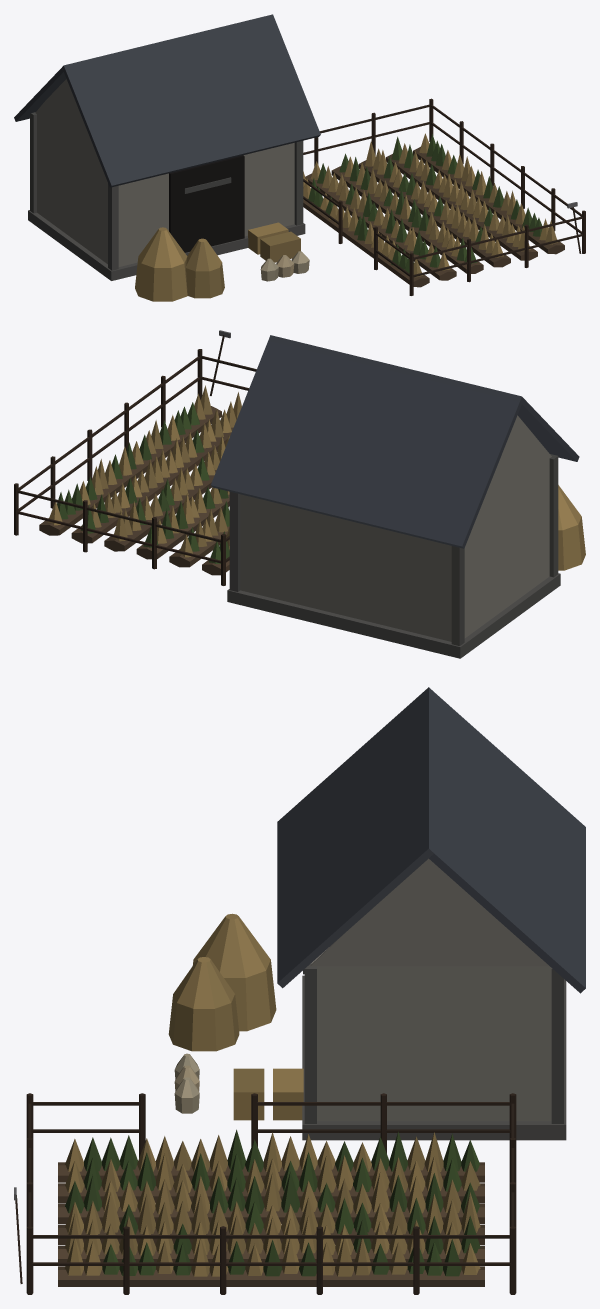
Rendered from walk_freehold_farm.glb.
3 renders of one model, top to bottom at view 1: azimuth 30°, elevation 25°; view 2: azimuth 150°, elevation 25°; view 3: azimuth 270°, elevation 25°, orthographic. The views are drawn at different scales.
Visible parts, largest first — view 1: walk_freehold_farm, walk_freehold_farm_roof; view 2: walk_freehold_farm, walk_freehold_farm_roof; view 3: walk_freehold_farm, walk_freehold_farm_roof.
Part boxes in pixels (x1,y1,x2,y2): walk_freehold_farm: [28, 79, 585, 301]; walk_freehold_farm_roof: [14, 14, 320, 187]; walk_freehold_farm: [14, 330, 585, 658]; walk_freehold_farm_roof: [211, 335, 579, 548]; walk_freehold_farm: [14, 858, 566, 1294]; walk_freehold_farm_roof: [277, 687, 585, 993].
Size of what is drawn, in the model's own units: 12.85 by 6.04 by 10.18.
2 materials, 2 textured.
